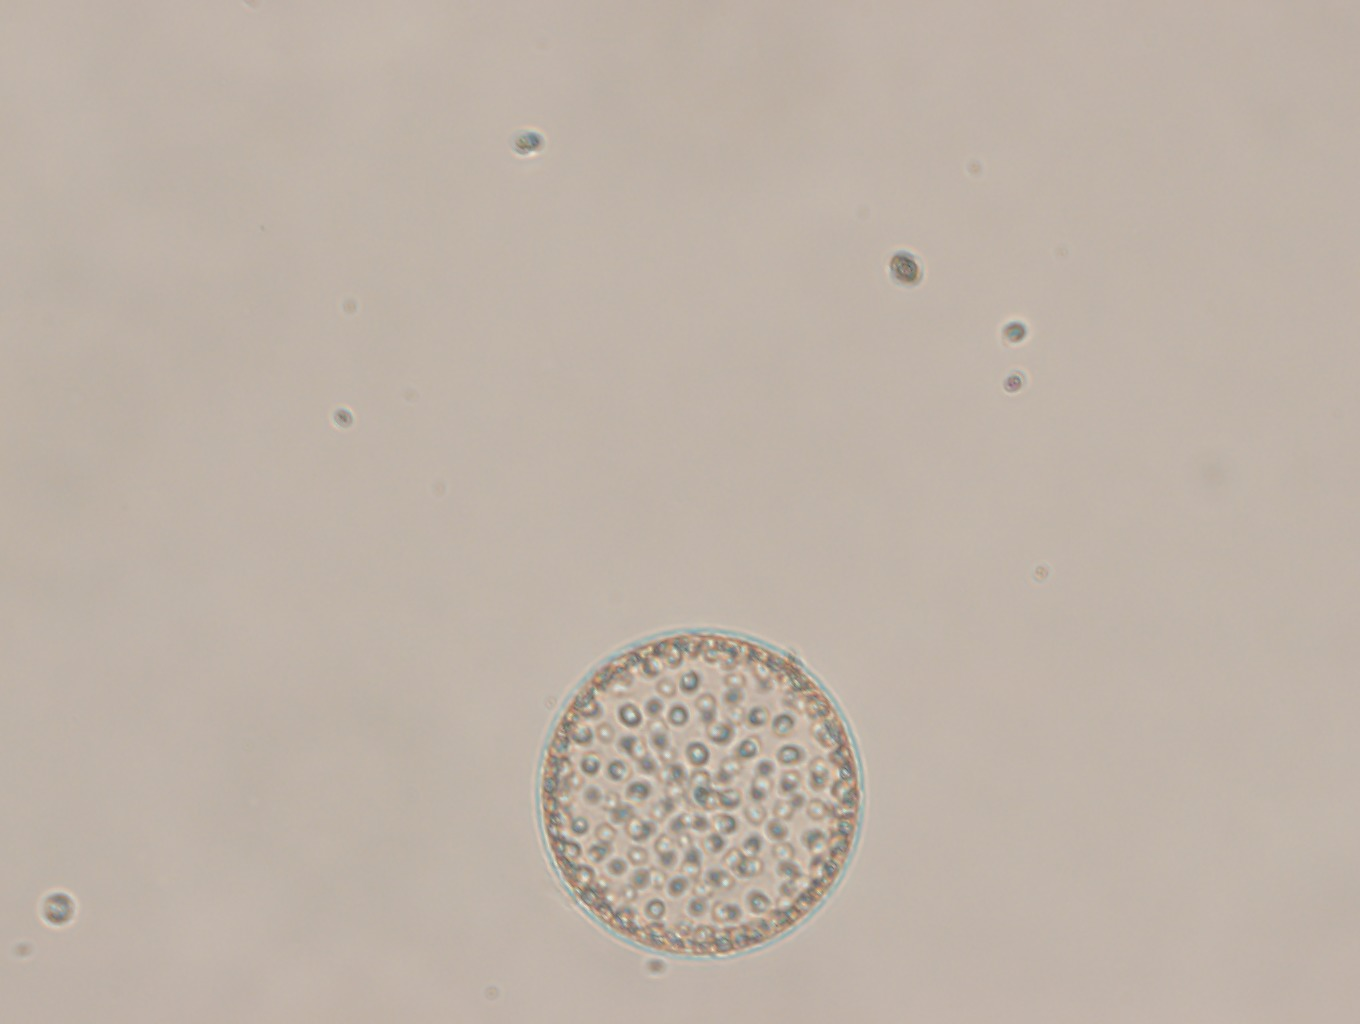coscinodiscus: (532, 618, 873, 965)
